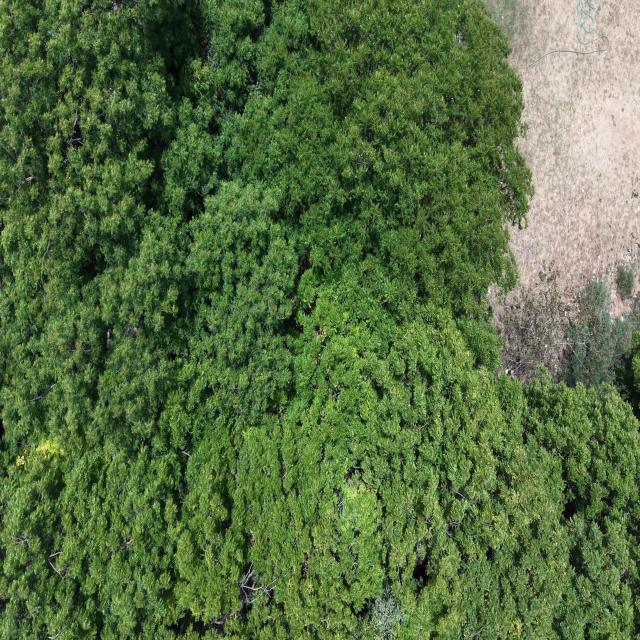DRY_AREA: (486, 0, 639, 294)
VEGETATION_TREE: (0, 0, 639, 639), (493, 265, 639, 397), (489, 264, 584, 382), (564, 279, 637, 385), (620, 332, 639, 417), (616, 264, 634, 300)
